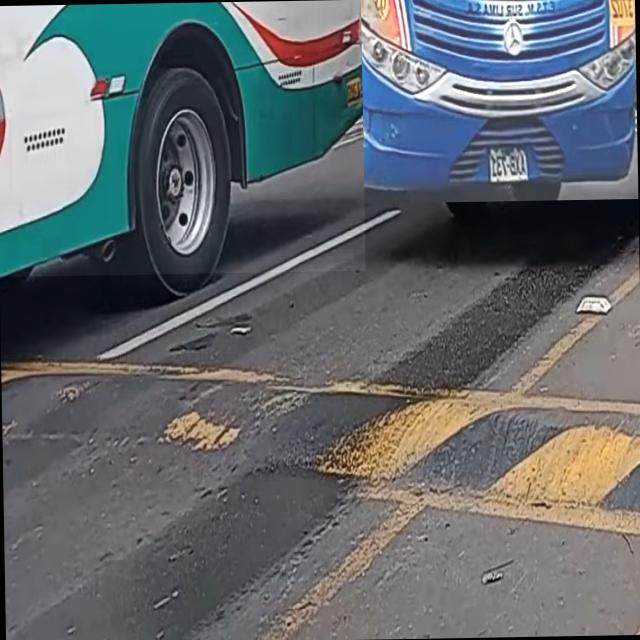bus: (0, 0, 365, 276), (360, 0, 638, 203)
